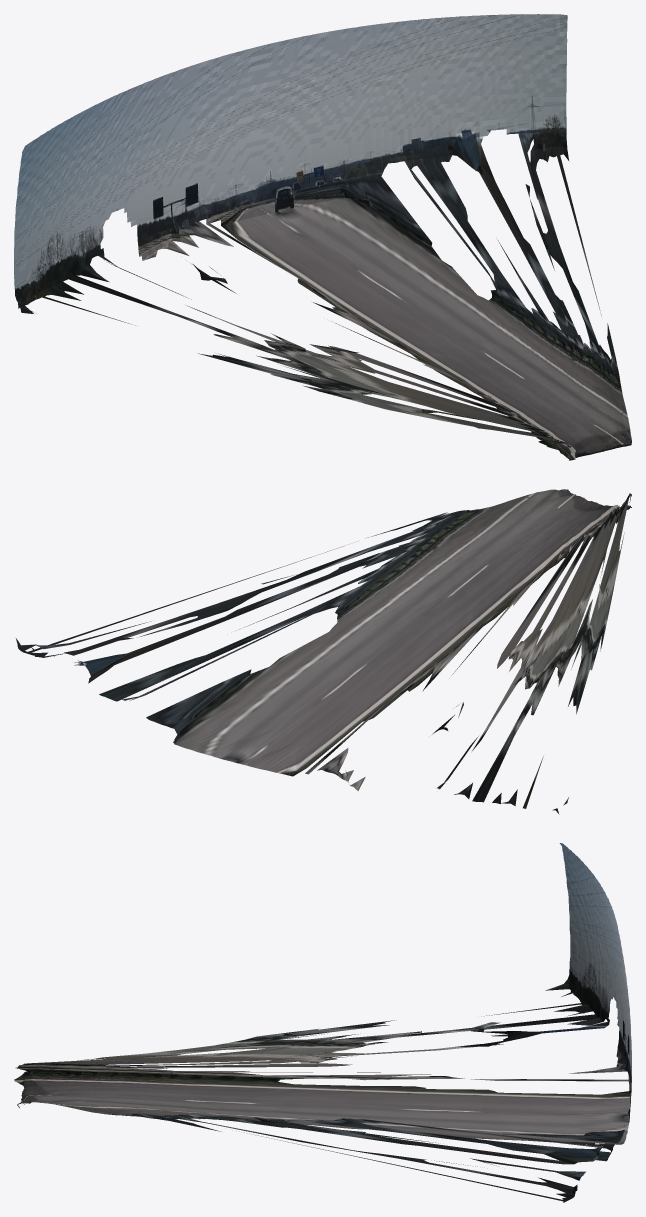
The picture shows the model from 3 angles, top to bottom: view 1: azimuth 30°, elevation 25°; view 2: azimuth 150°, elevation 25°; view 3: azimuth 270°, elevation 25°; orthographic projection. The views are drawn at different scales.
Parts seen in each view (by area): view 1: defaultobject; view 2: defaultobject; view 3: defaultobject.
Part boxes in pixels (x1,y1,x2,y2): defaultobject: (14, 14, 631, 460); defaultobject: (16, 489, 631, 814); defaultobject: (14, 843, 631, 1202).
Size of the model in its own units: 41.16 by 13.18 by 44.72.
Materials: 1 (1 with a texture image).
